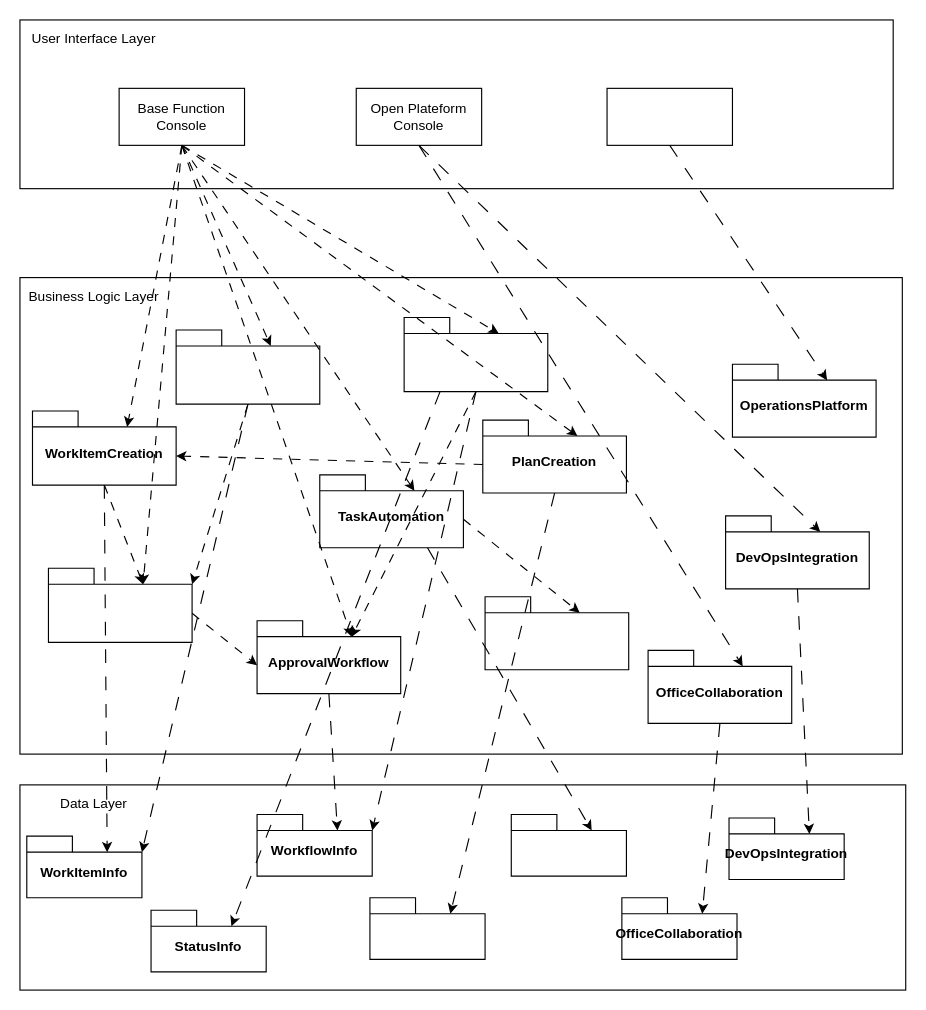
Image size: 926x1010. Some labels were removed from this diagram. Here are the shapes that lost their labels. From the top down, the centre of each, then its label:
At point 669,116: "Operations Platform Console".
At point 247,366: "WorkItemUpdate".
At point 475,354: "ProcessDefinition".
At point 119,604: "ProgressTracking".
At point 556,633: "ScheduleValidation".
At point 568,844: "AutoTaskInfo".
At point 427,928: "IterationInfo".
